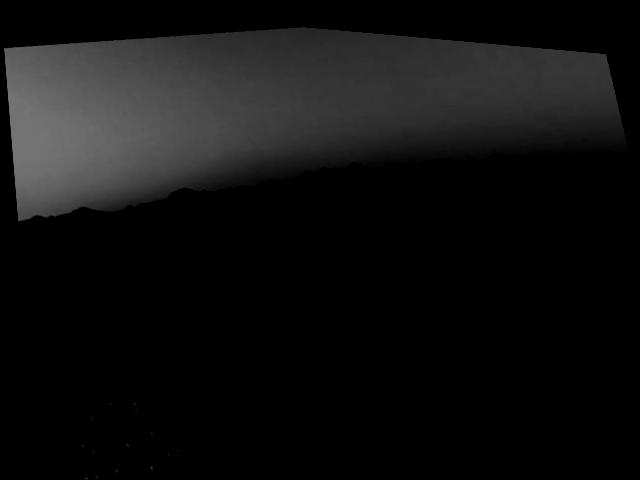hedef: (226, 464, 293, 480)
